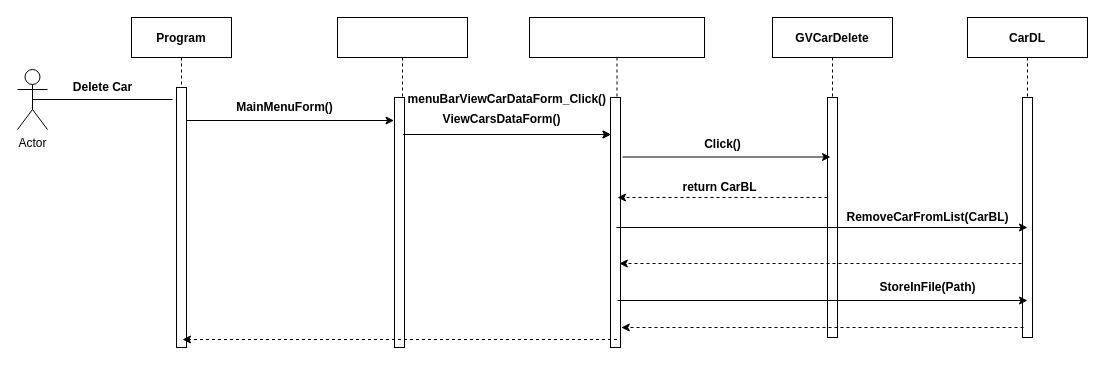
The diagram is 1105 pixels wide and 365 high, and some of its shapes have lost their labels. The box of each missing label's shape, as (x1, y1, x2, y2) in pixels:
AdminMainMenuForm: (336, 16, 468, 348)
ViewCarsDataForm: (528, 16, 704, 348)
